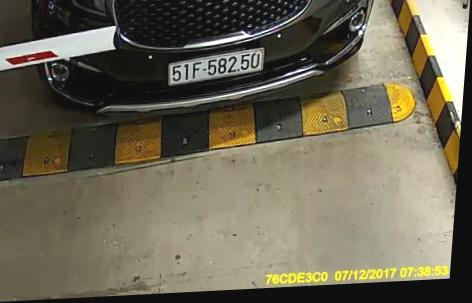License_Plate: (163, 47, 272, 83)
